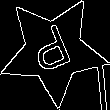P_SE: (27, 21, 80, 81)
